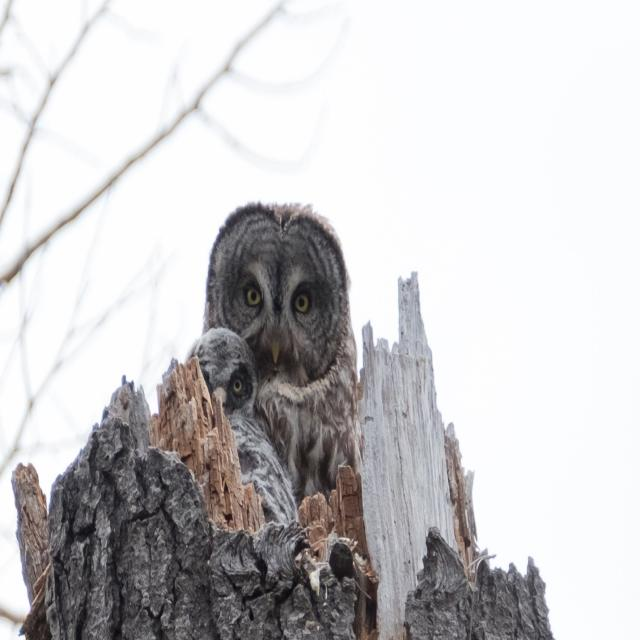Owl: (200, 206, 368, 543)
